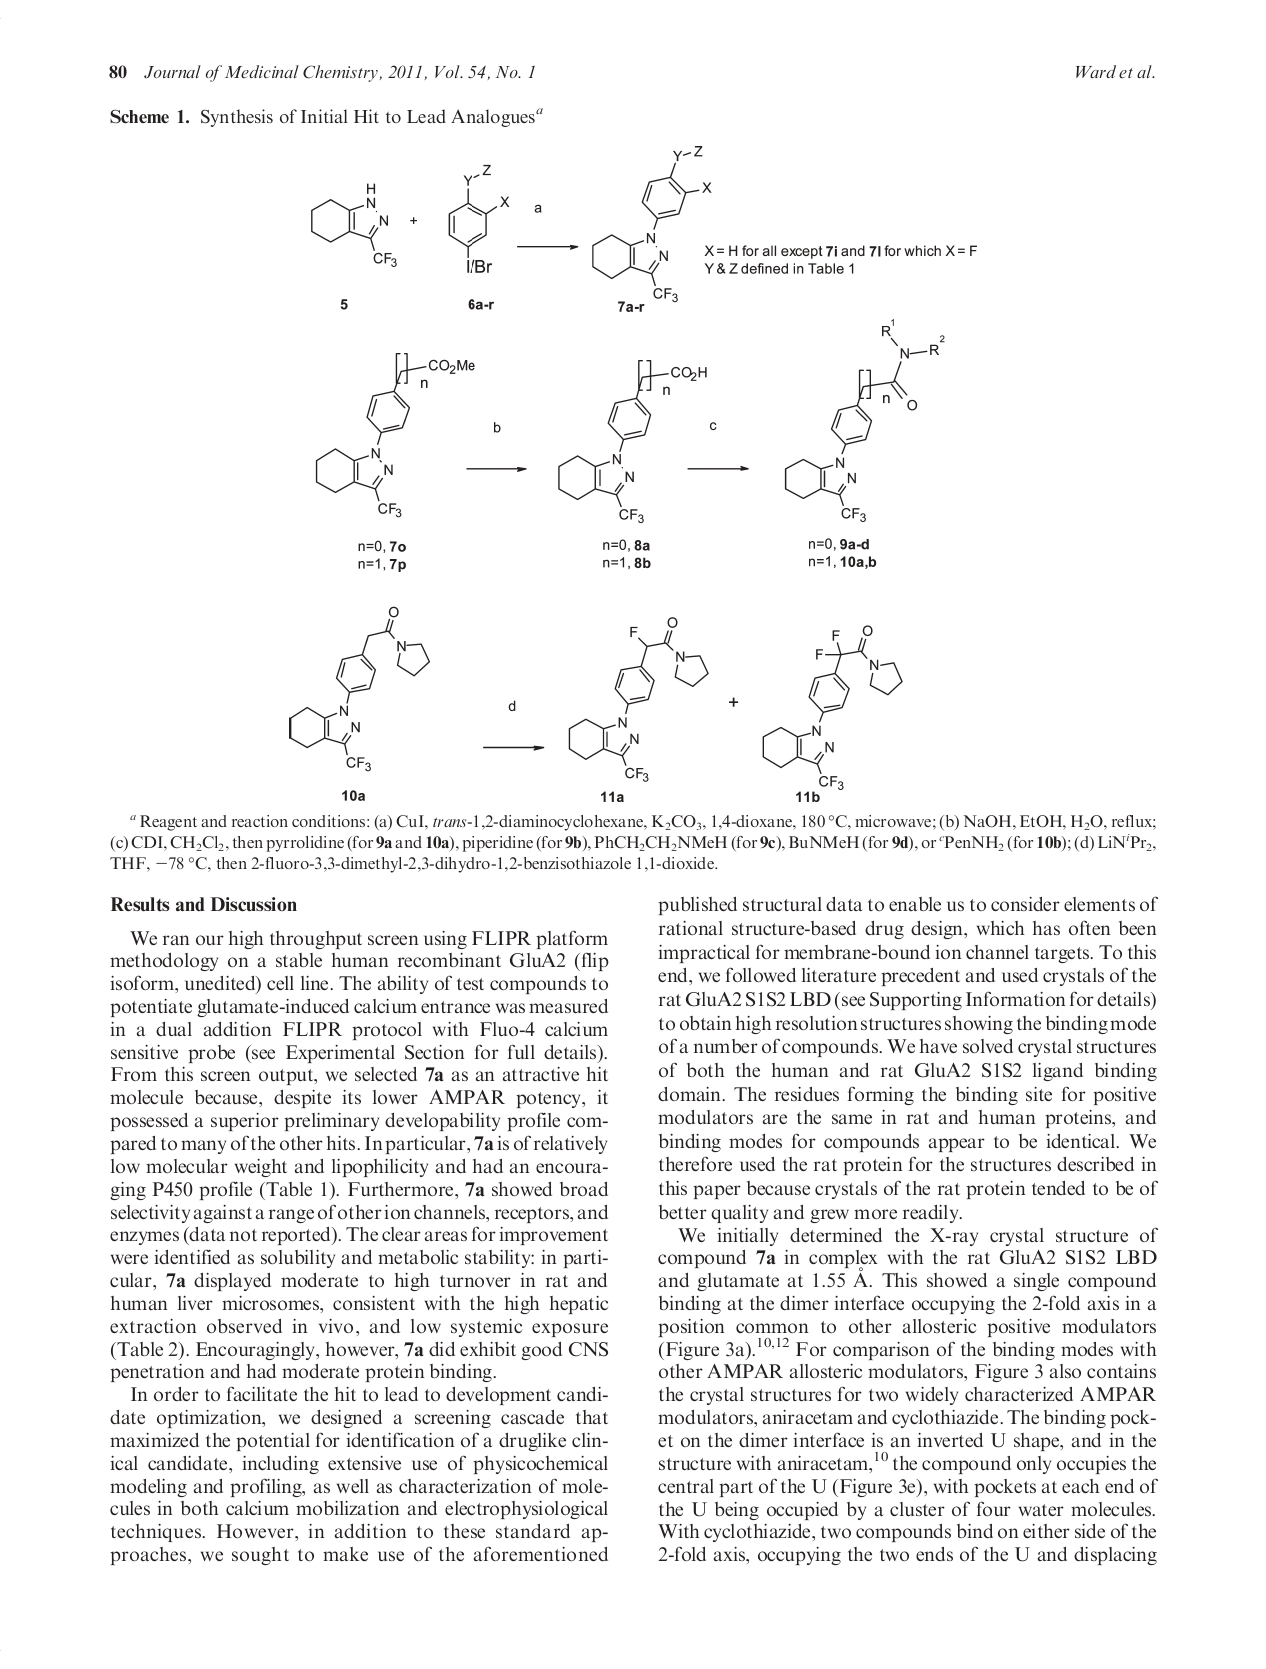exist_molecular: (782, 317, 947, 523), (309, 346, 473, 519), (555, 356, 707, 525), (761, 622, 910, 791), (285, 605, 432, 774), (567, 614, 711, 781), (588, 142, 711, 302), (309, 180, 402, 270), (442, 160, 511, 277)
